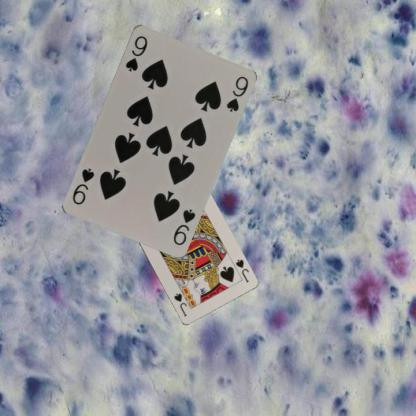9s: (170, 206, 197, 246), (122, 32, 148, 73)
Js: (233, 256, 250, 284)
